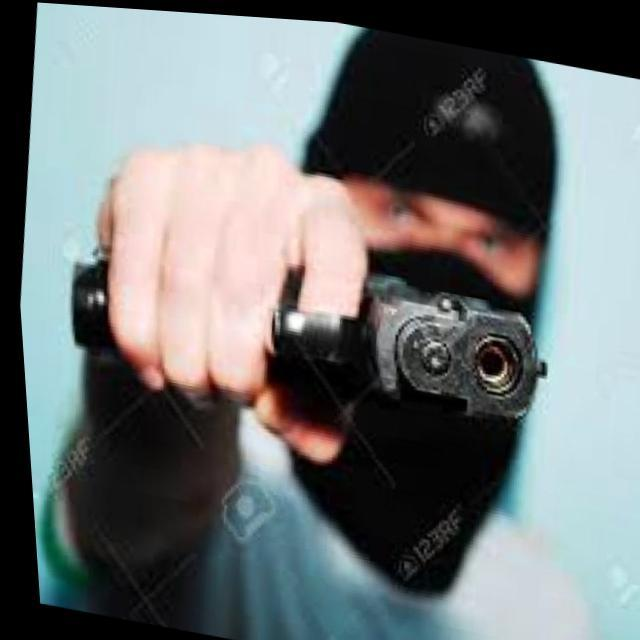weapon: (54, 199, 561, 454)
